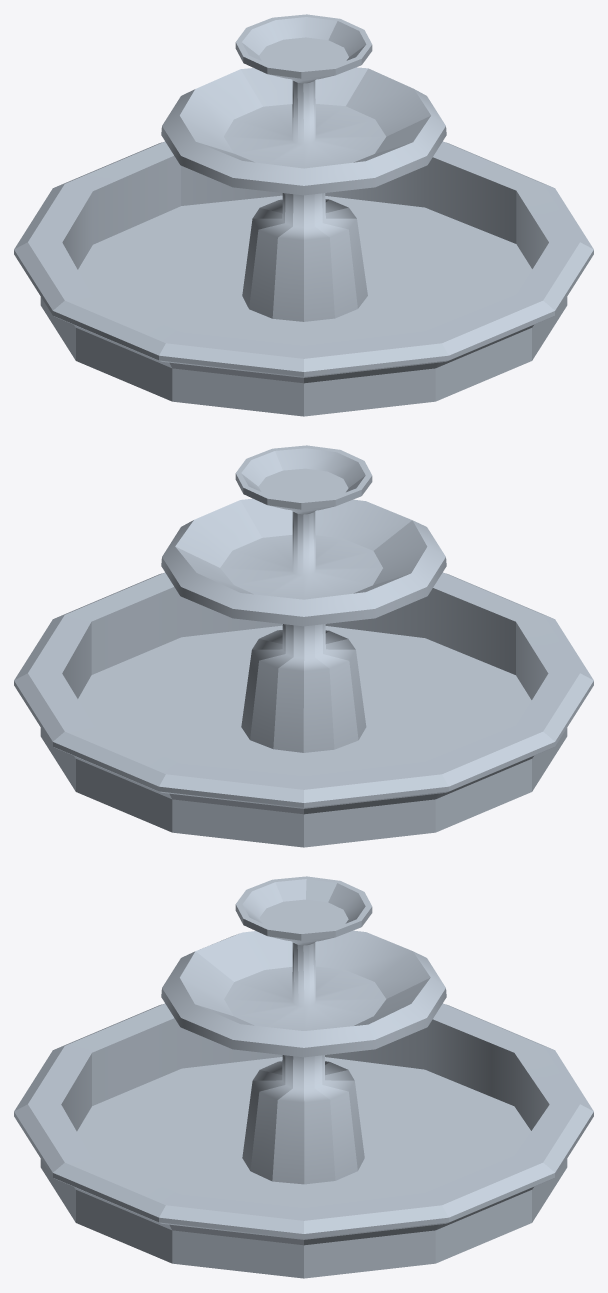
File: fountain.fbx
The picture shows the model from 3 angles, top to bottom: view 1: azimuth 30°, elevation 25°; view 2: azimuth 150°, elevation 25°; view 3: azimuth 270°, elevation 25°; orthographic projection.
Parts seen in each view (by area): view 1: pCylinder15; view 2: pCylinder15; view 3: pCylinder15.
Boxes of the visible parts, box(x1,y1,x2,y2) form: pCylinder15: box(14, 14, 593, 416); pCylinder15: box(14, 445, 593, 847); pCylinder15: box(14, 876, 593, 1278).
Size of the model in its own units: 5.08 by 2.53 by 5.08.
